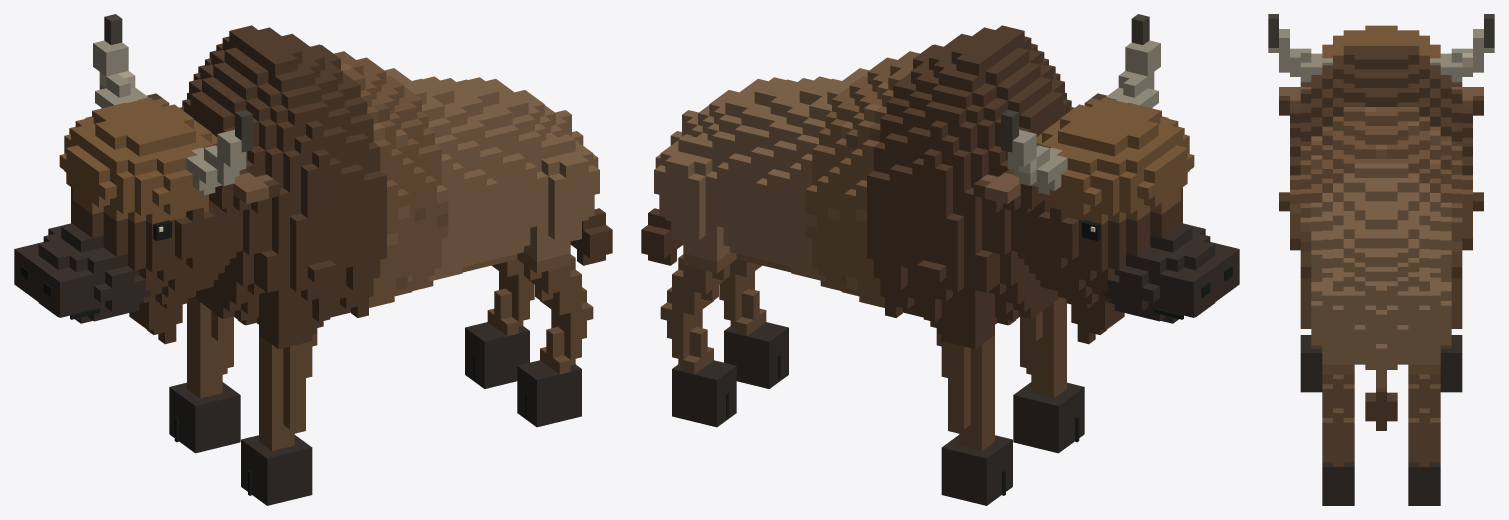
Rendered from Ashbison.glb.
The picture shows the model from 3 angles, left to right: view 1: azimuth 30°, elevation 25°; view 2: azimuth 150°, elevation 25°; view 3: azimuth 270°, elevation 25°; orthographic projection. The views are drawn at different scales.
Visible parts, largest first — view 1: Pelagem e anatomia, Cabeca e juba, Cascos, Focinho, Chifres, Cauda, Orelhas; view 2: Pelagem e anatomia, Cabeca e juba, Cascos, Focinho, Chifres, Cauda, Orelhas; view 3: Pelagem e anatomia, Cascos, Chifres, Cabeca e juba, Cauda, Orelhas.
Part boxes in pixels (box(x1,y1,x2,y2)): Pelagem e anatomia: box(147, 25, 599, 450); Cabeca e juba: box(59, 97, 236, 344); Cascos: box(169, 322, 581, 505); Focinho: box(14, 223, 150, 323); Chifres: box(93, 14, 252, 195); Cauda: box(570, 208, 612, 265); Orelhas: box(154, 98, 273, 203); Pelagem e anatomia: box(654, 25, 1106, 450); Cabeca e juba: box(1017, 97, 1194, 344); Cascos: box(672, 322, 1084, 505); Focinho: box(1103, 223, 1239, 323); Chifres: box(1001, 14, 1160, 195); Cauda: box(641, 208, 683, 265); Orelhas: box(980, 98, 1099, 203); Pelagem e anatomia: box(1279, 46, 1483, 466); Cascos: box(1300, 335, 1462, 505); Chifres: box(1268, 14, 1494, 82); Cabeca e juba: box(1322, 25, 1440, 58); Cauda: box(1365, 387, 1397, 430); Orelhas: box(1279, 87, 1483, 108).
Size of the model in its own units: 3.76 by 2.62 by 1.58.
